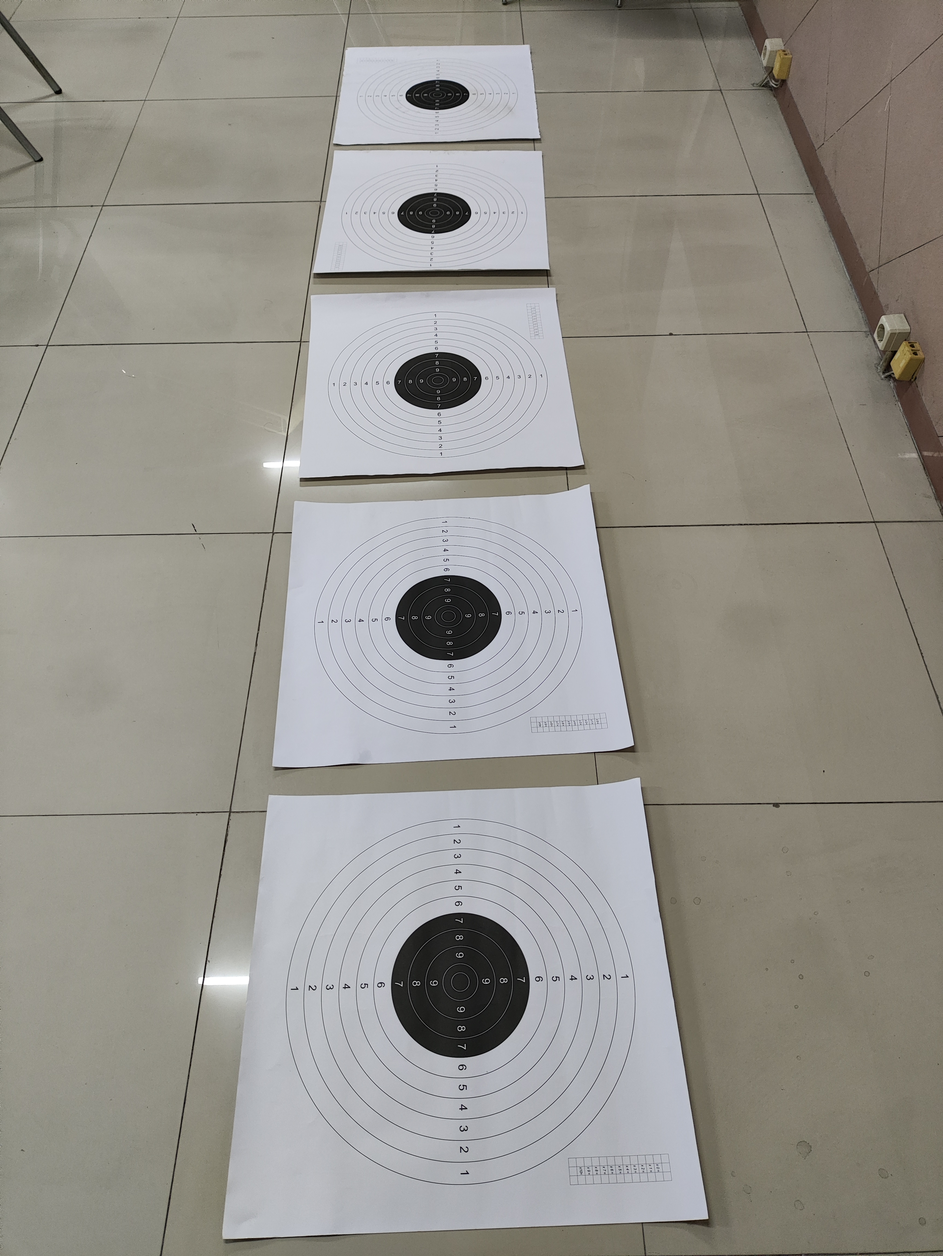target: (273, 810, 646, 1200), (300, 501, 593, 745), (319, 300, 558, 464), (342, 157, 533, 273), (342, 46, 528, 141)
